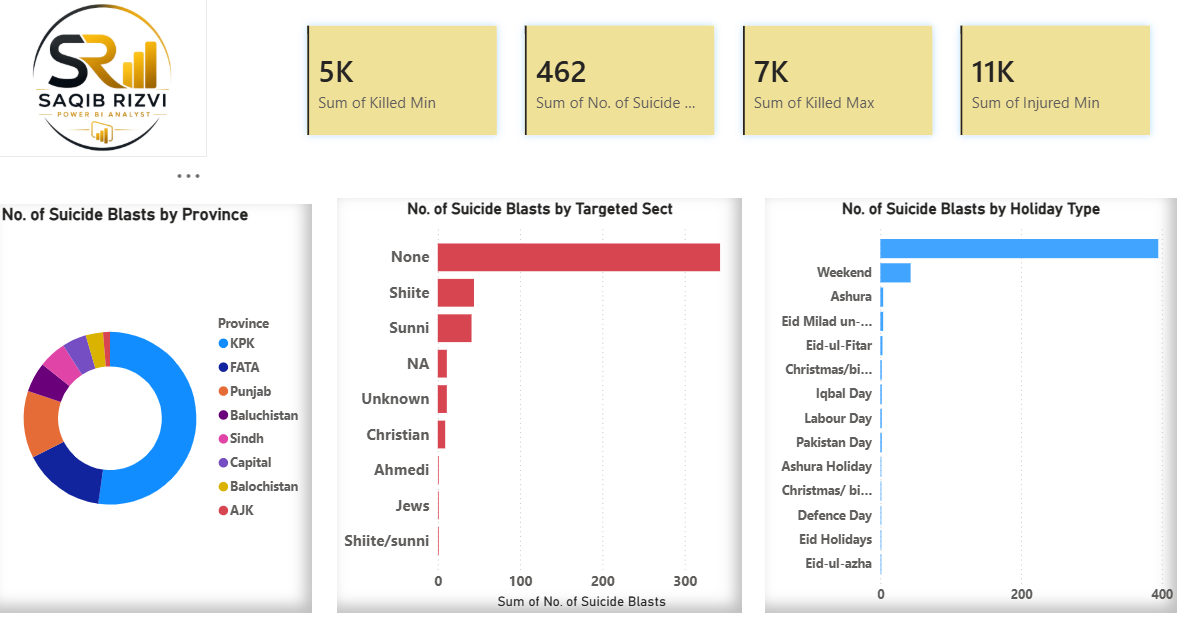

The page's visual inventory and layout, read from the dashboard file:
{"tool":"powerbi","page":{"name":"Page 1","canvas":[1280,720],"ordinal":0},"visuals":[{"type":"barChart","title":"No. of Suicide Blasts by Targeted Sect ","fields":{"Category":["PakistanSuicideAttacks_Ver_11__30_November_2017.Targeted Sect if any"],"Y":["Sum(PakistanSuicideAttacks_Ver_11__30_November_2017.No. of Suicide Blasts)"]},"box":[377,224.3,429.5,439],"z":0},{"type":"clusteredBarChart","title":"No. of Suicide Blasts by Holiday Type","fields":{"Category":["PakistanSuicideAttacks_Ver_11__30_November_2017.Holiday Type"],"Y":["Sum(PakistanSuicideAttacks_Ver_11__30_November_2017.No. of Suicide Blasts)"]},"box":[830.3,224.3,437.4,439],"z":1000},{"type":"image","box":[15.9,12.7,222.7,167],"z":2000},{"type":"cardVisual","fields":{"Data":["Sum(PakistanSuicideAttacks_Ver_11__30_November_2017.Killed Min)","Sum(PakistanSuicideAttacks_Ver_11__30_November_2017.No. of Suicide Blasts)","Sum(PakistanSuicideAttacks_Ver_11__30_November_2017.Killed Max)","Sum(PakistanSuicideAttacks_Ver_11__30_November_2017.Injured Min)"]},"box":[316.5,12.7,951,172],"z":3000},{"type":"donutChart","title":"No. of Suicide Blasts by Province","fields":{"Category":["PakistanSuicideAttacks_Ver_11__30_November_2017.Province"],"Y":["Sum(PakistanSuicideAttacks_Ver_11__30_November_2017.No. of Suicide Blasts)"]},"box":[15.9,230.6,334,432.6],"z":4000}]}

Visuals, with their boxes on the page's 1280x720 design canvas (x1, y1, x2, y2). These are canvas units, not pixel positions in the 1186x637 screenshot, which may show the page scaled, cropped or inside an application window:
"No. of Suicide Blasts by Targeted Sect " barChart: crop(377, 224, 806, 663)
"No. of Suicide Blasts by Holiday Type" clusteredBarChart: crop(830, 224, 1268, 663)
image: crop(16, 13, 239, 180)
cardVisual - Sum(PakistanSuicideAttacks_Ver_11__30_November_2017.Killed Min) x Sum(PakistanSuicideAttacks_Ver_11__30_November_2017.No. of Suicide Blasts): crop(316, 13, 1268, 185)
"No. of Suicide Blasts by Province" donutChart: crop(16, 231, 350, 663)
